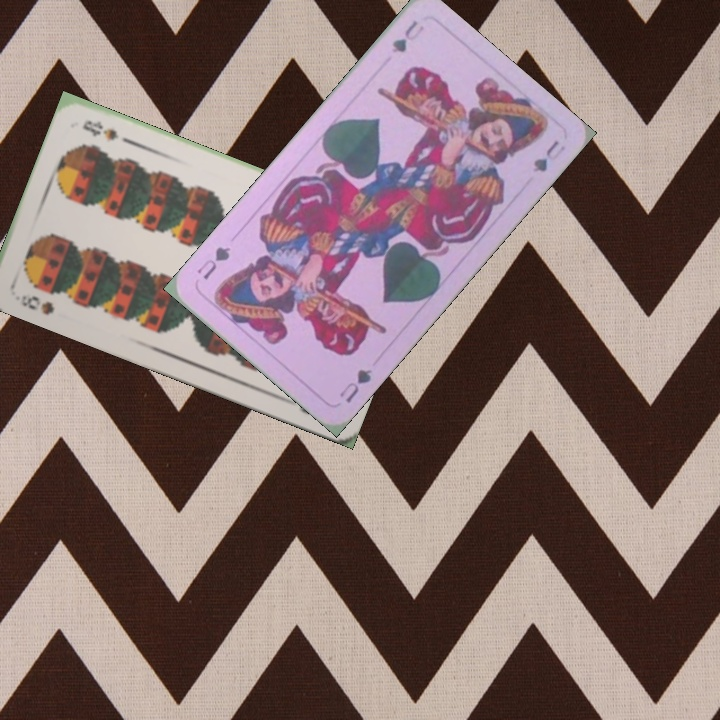GU: (335, 364, 375, 406), (388, 16, 427, 56)
S8: (16, 291, 57, 318)
